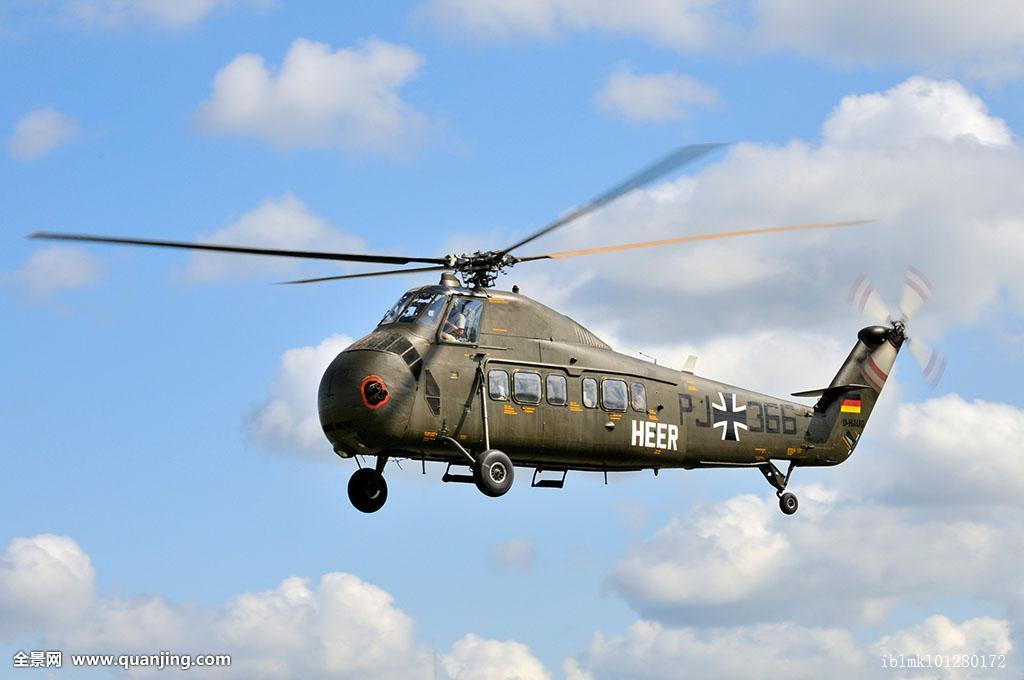airplane: (211, 213, 935, 531)
